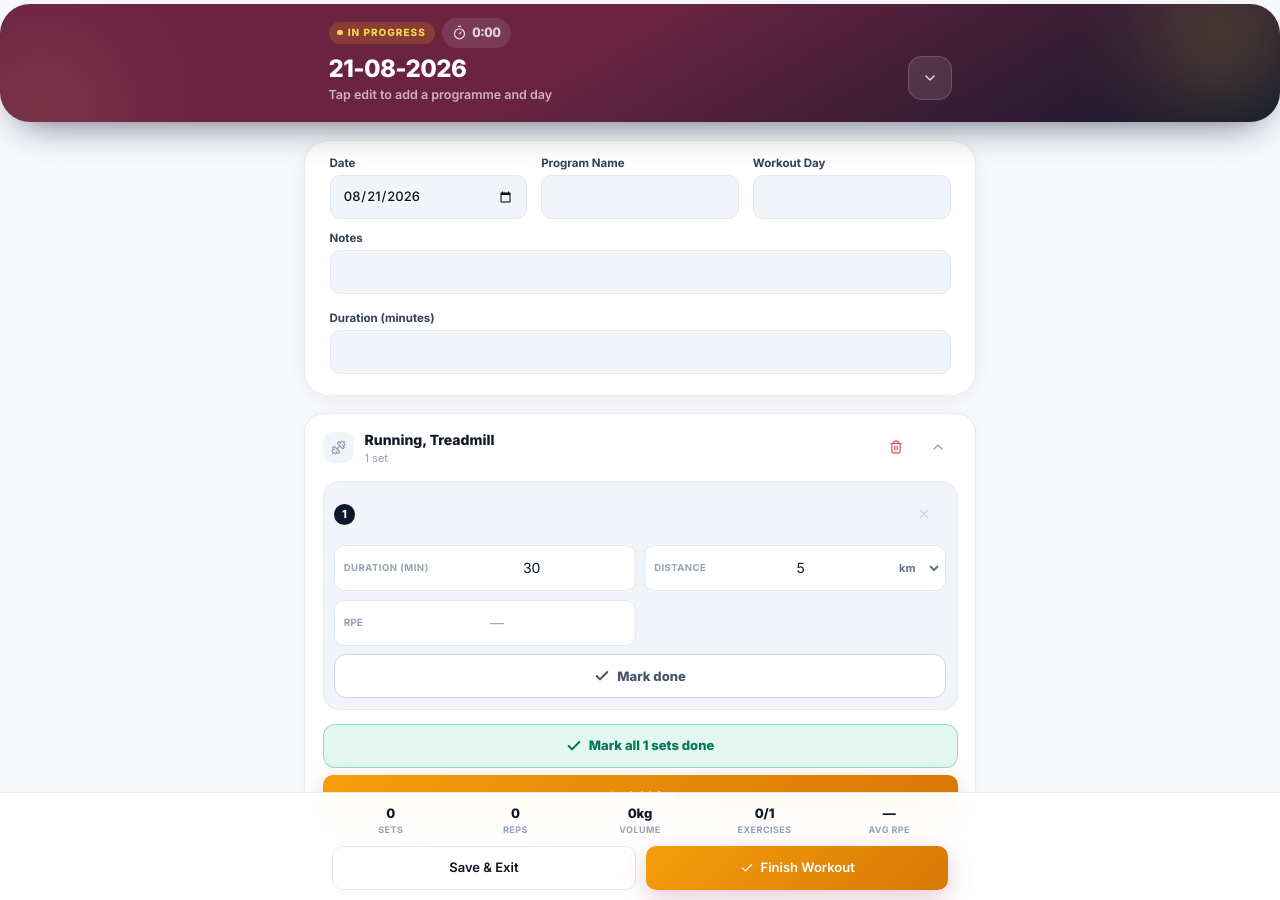
Test: cardio set row › keeps a field being typed when the refetch changes the field beside it
Replace the text in the field labelled "Duration (min)" with "32.5" at (532, 568), box [432,546,631,590]
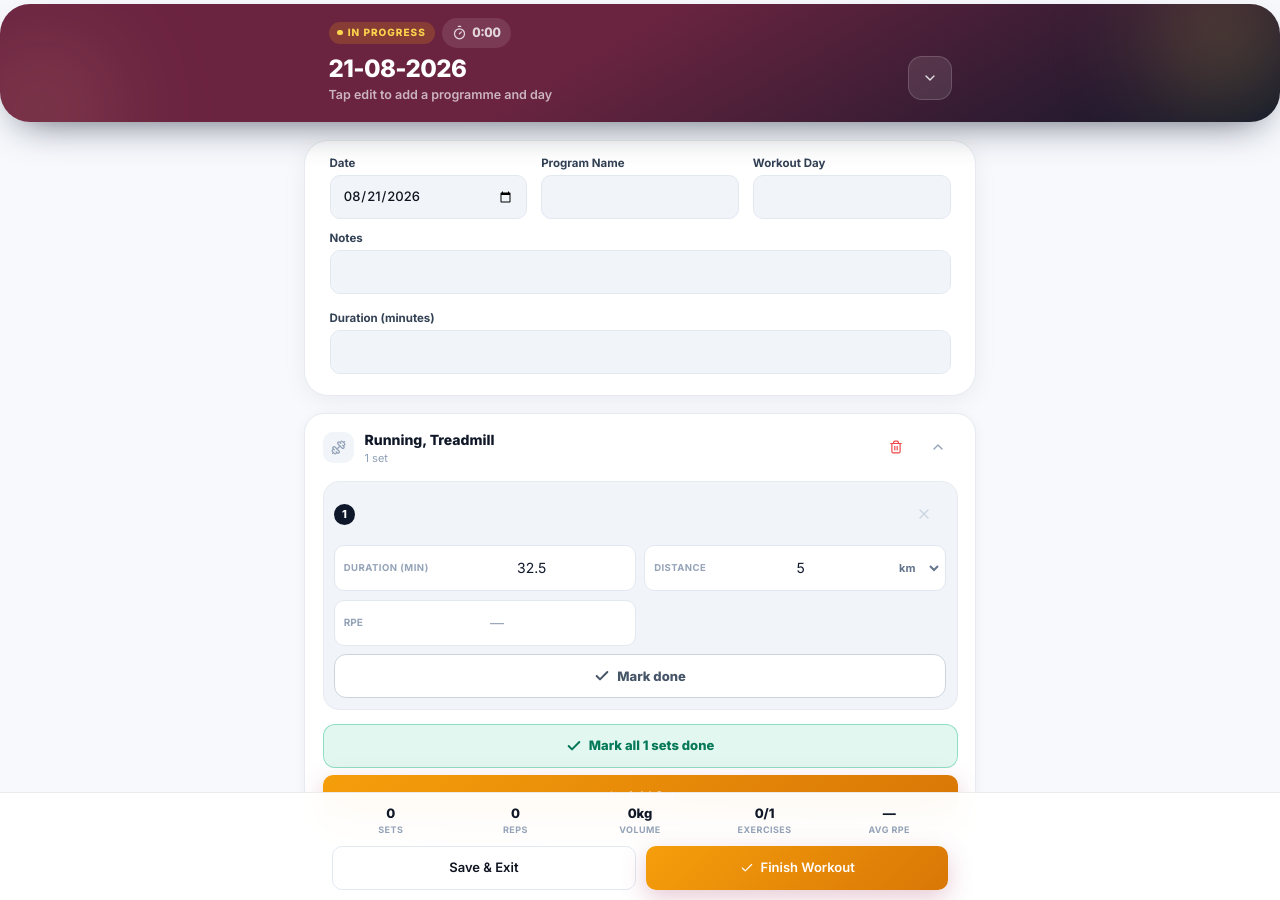
Leave the field labelled "Distance", box [710,546,892,590]
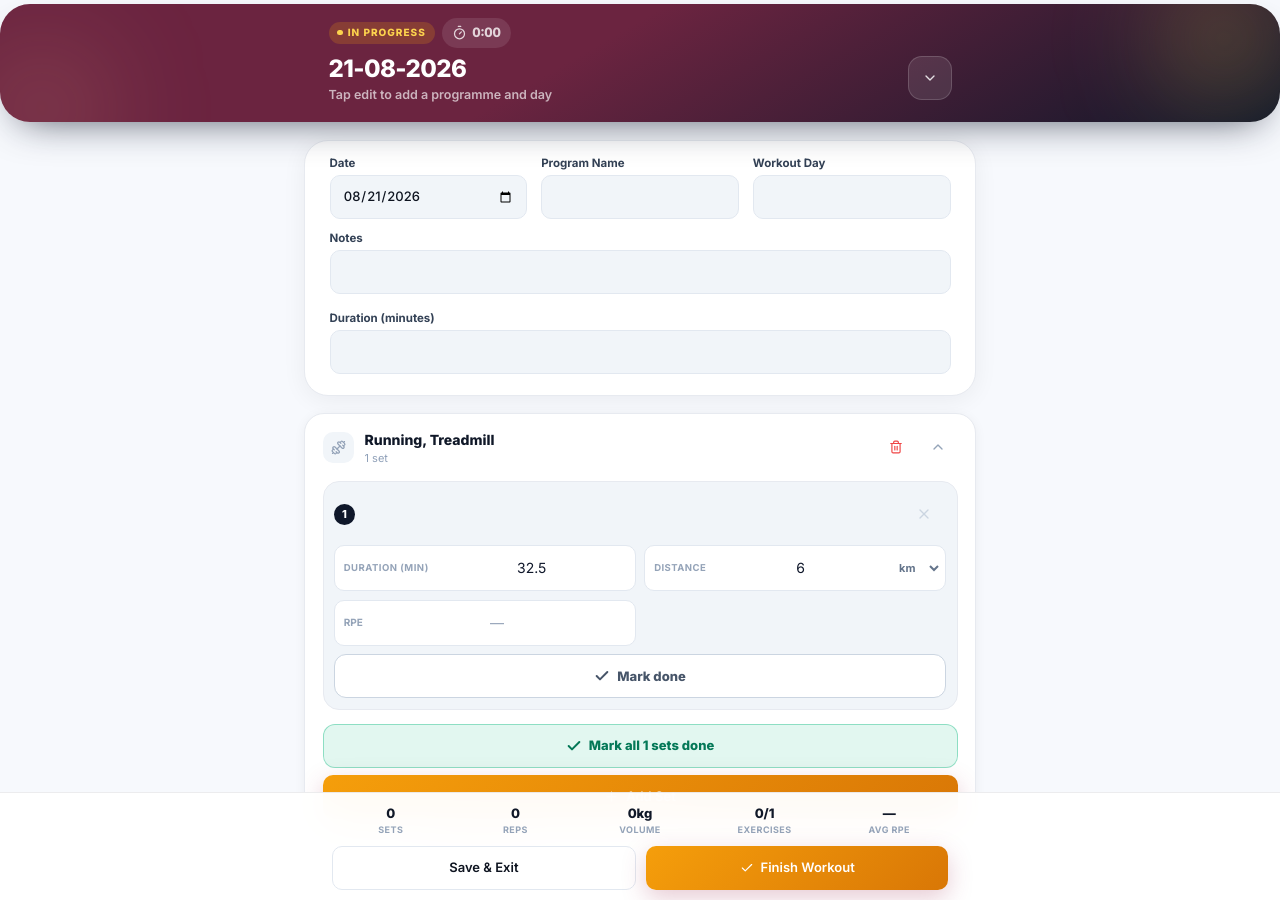
Check: the field labelled "Distance" holds "6", box [710,546,892,590]
